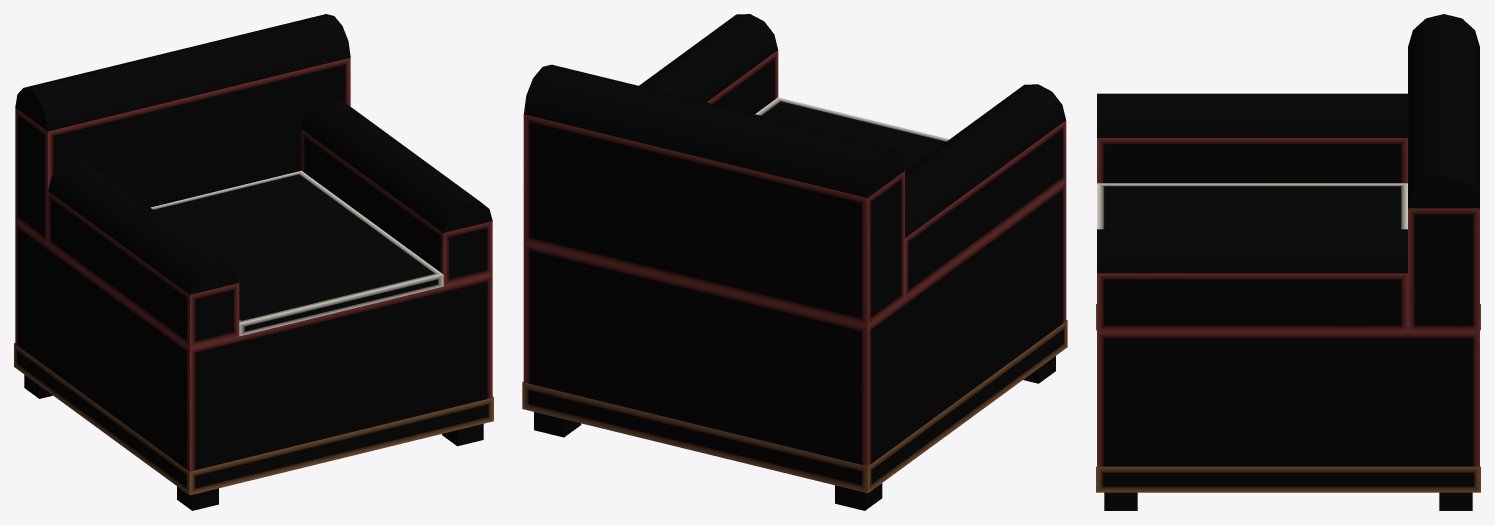
The model's file is armchair.glb.
3 renders of one model, left to right at view 1: azimuth 30°, elevation 25°; view 2: azimuth 150°, elevation 25°; view 3: azimuth 270°, elevation 25°, orthographic. The views are drawn at different scales.
Visible parts, largest first — view 1: upholstery, cushions, frame; view 2: upholstery, frame, cushions; view 3: upholstery, cushions, frame.
Boxes of the visible parts, x1,y1,x2,y2 form: upholstery: (15,14,492,471); cushions: (150,170,443,336); frame: (14,343,493,510); upholstery: (523,14,1066,466); frame: (522,320,1067,510); cushions: (755,97,949,171); upholstery: (1097,14,1479,466); cushions: (1097,183,1407,229); frame: (1096,304,1480,510).
Bounding box in the file's own units: 0.804 × 0.78 × 0.804.
